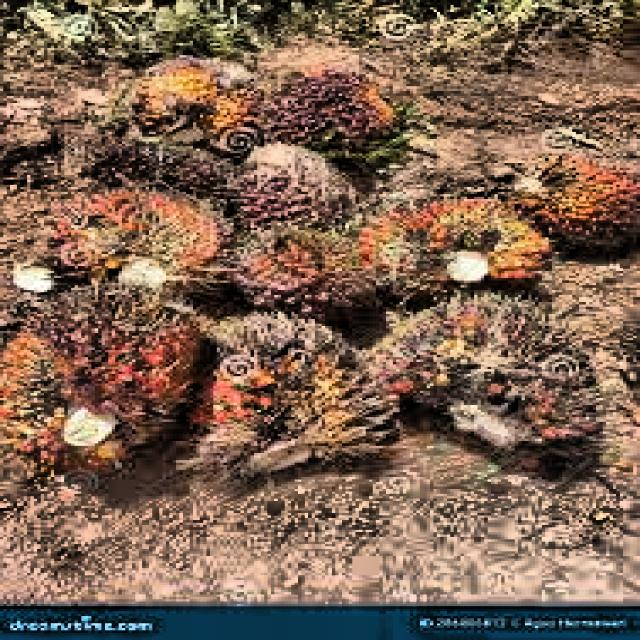FFB: (7, 287, 217, 473), (198, 318, 399, 485), (380, 303, 593, 448), (35, 190, 228, 291), (234, 221, 375, 316), (493, 162, 640, 249), (402, 204, 547, 289), (249, 67, 387, 147), (129, 66, 265, 139), (232, 148, 357, 227), (94, 143, 229, 195)
